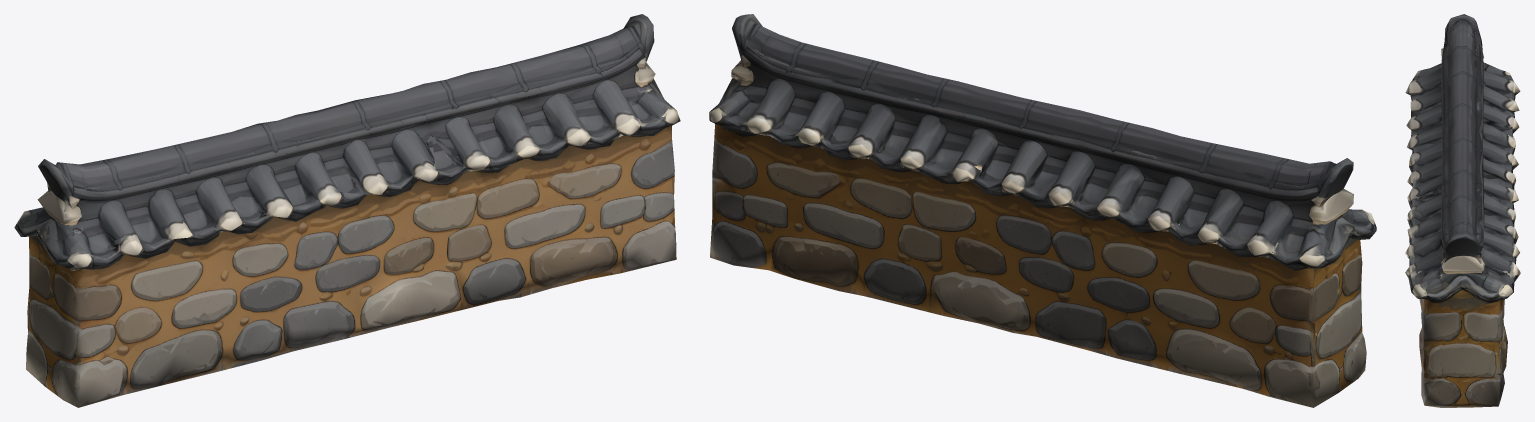
The model's file is wall_stone.glb.
3 renders of one model, left to right at view 1: azimuth 30°, elevation 25°; view 2: azimuth 150°, elevation 25°; view 3: azimuth 270°, elevation 25°, orthographic. The views are drawn at different scales.
Visible parts, largest first — view 1: texture_mapping; view 2: texture_mapping; view 3: texture_mapping.
Part boxes in pixels (x1,y1,x2,y2): texture_mapping: (14, 14, 680, 407); texture_mapping: (709, 14, 1376, 407); texture_mapping: (1405, 14, 1520, 407).
Bounding box in the file's own units: 1.01 × 0.3569 × 0.217.
1 material, 1 textured.
